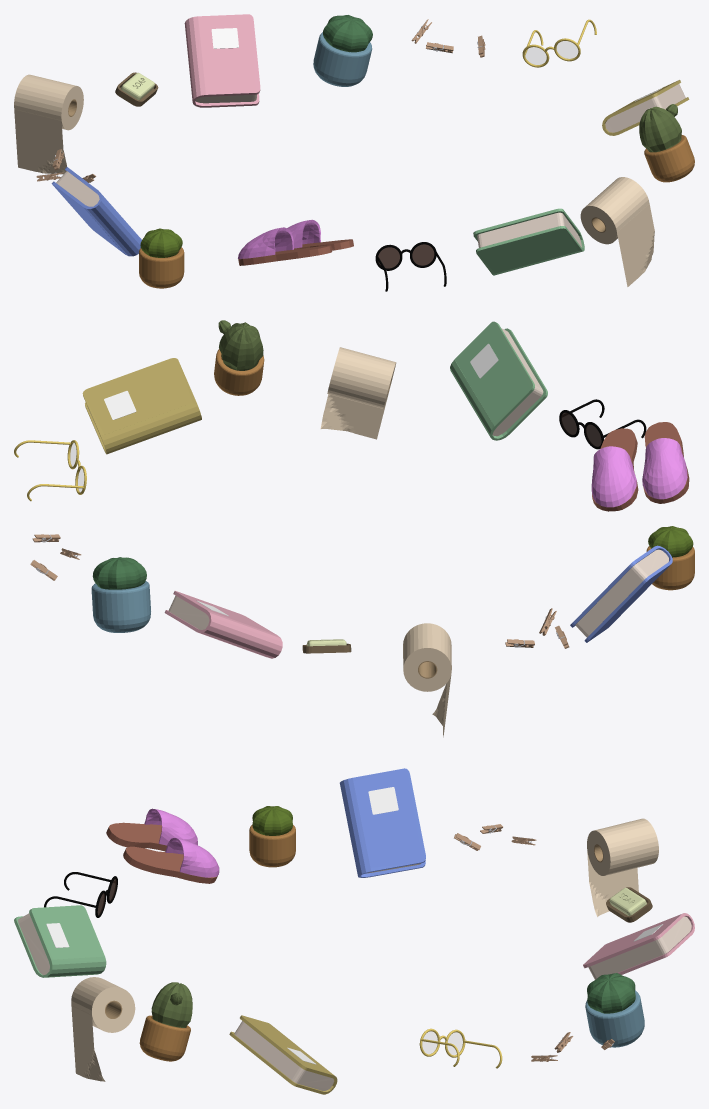
File: omatesineet.glb
The picture shows the model from 3 angles, top to bottom: view 1: azimuth 30°, elevation 25°; view 2: azimuth 150°, elevation 25°; view 3: azimuth 270°, elevation 25°; orthographic projection. The views are drawn at different scales.
Parts seen in each view (by area): view 1: Kirja, vessapaperi, Kirja2.001, vessapaperi2, Ruukku2.001, Ruukku1, Kirja2, Aamutossut, Ruukku2, Kirja2.002, Aurinkolasit, Silmälasit (+1 smaller); view 2: Kirja2.002, Kirja2.001, Aamutossut, vessapaperi2, Ruukku2.001, Kirja, Kirja2, vessapaperi, Ruukku1, Ruukku2, Aurinkolasit, Silmälasit (+1 smaller); view 3: Kirja2, Kirja2.001, Aamutossut, vessapaperi, vessapaperi2, Kirja2.002, Ruukku2.001, Kirja, Ruukku1, Ruukku2, Silmälasit, Saippua (+1 smaller).
Part boxes in pixels (bbox=[...]): Kirja: bbox=[184, 14, 260, 107]; vessapaperi: bbox=[14, 74, 83, 174]; Kirja2.001: bbox=[473, 208, 584, 275]; vessapaperi2: bbox=[580, 177, 654, 286]; Ruukku2.001: bbox=[313, 15, 372, 86]; Ruukku1: bbox=[639, 104, 694, 182]; Kirja2: bbox=[51, 167, 141, 256]; Aamutossut: bbox=[238, 219, 353, 265]; Ruukku2: bbox=[139, 228, 184, 288]; Kirja2.002: bbox=[602, 80, 689, 135]; Aurinkolasit: bbox=[375, 242, 446, 291]; Silmälasit: bbox=[522, 19, 596, 67]; Kirja2.002: bbox=[82, 358, 201, 454]; Kirja2.001: bbox=[450, 321, 547, 440]; Aamutossut: bbox=[591, 422, 689, 511]; vessapaperi2: bbox=[320, 347, 396, 439]; Ruukku2.001: bbox=[91, 557, 150, 632]; Kirja: bbox=[164, 591, 282, 658]; Kirja2: bbox=[570, 545, 672, 642]; vessapaperi: bbox=[403, 623, 451, 737]; Ruukku1: bbox=[214, 320, 264, 395]; Ruukku2: bbox=[646, 526, 694, 590]; Aurinkolasit: bbox=[559, 399, 646, 449]; Silmälasit: bbox=[14, 440, 86, 501]; Kirja2: bbox=[339, 768, 425, 877]; Kirja2.001: bbox=[14, 905, 106, 977]; Aamutossut: bbox=[106, 808, 219, 883]; vessapaperi: bbox=[587, 818, 658, 916]; vessapaperi2: bbox=[71, 977, 135, 1081]; Kirja2.002: bbox=[229, 1015, 337, 1094]; Ruukku2.001: bbox=[585, 973, 644, 1047]; Kirja: bbox=[583, 913, 694, 979]; Ruukku1: bbox=[139, 982, 192, 1061]; Ruukku2: bbox=[249, 806, 295, 867]; Silmälasit: bbox=[419, 1028, 502, 1068]; Saippua: bbox=[606, 887, 652, 922].
Bounding box in the file's own units: 1.48 × 0.3034 × 1.46.
